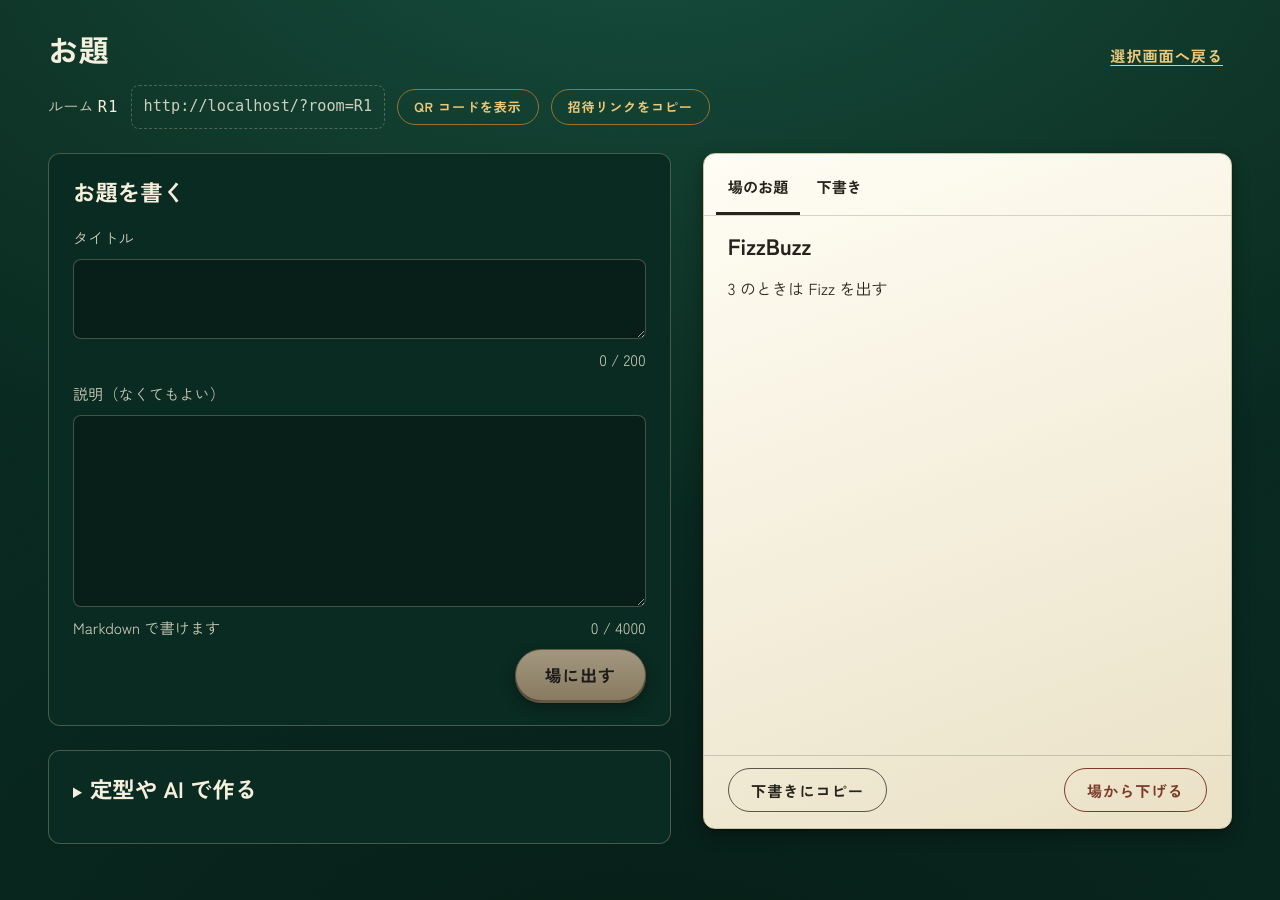
Test case: 書く › Given 書きかけがあって場のお題のタブを見ている / When 下書きにコピー / Then 書きかけは置き換わり、札は必ず下書きのタブへ切り替わる
Step 1. Type "書きかけ" into the text box labelled "タイトル" → (359, 299), box [73,259,646,339]
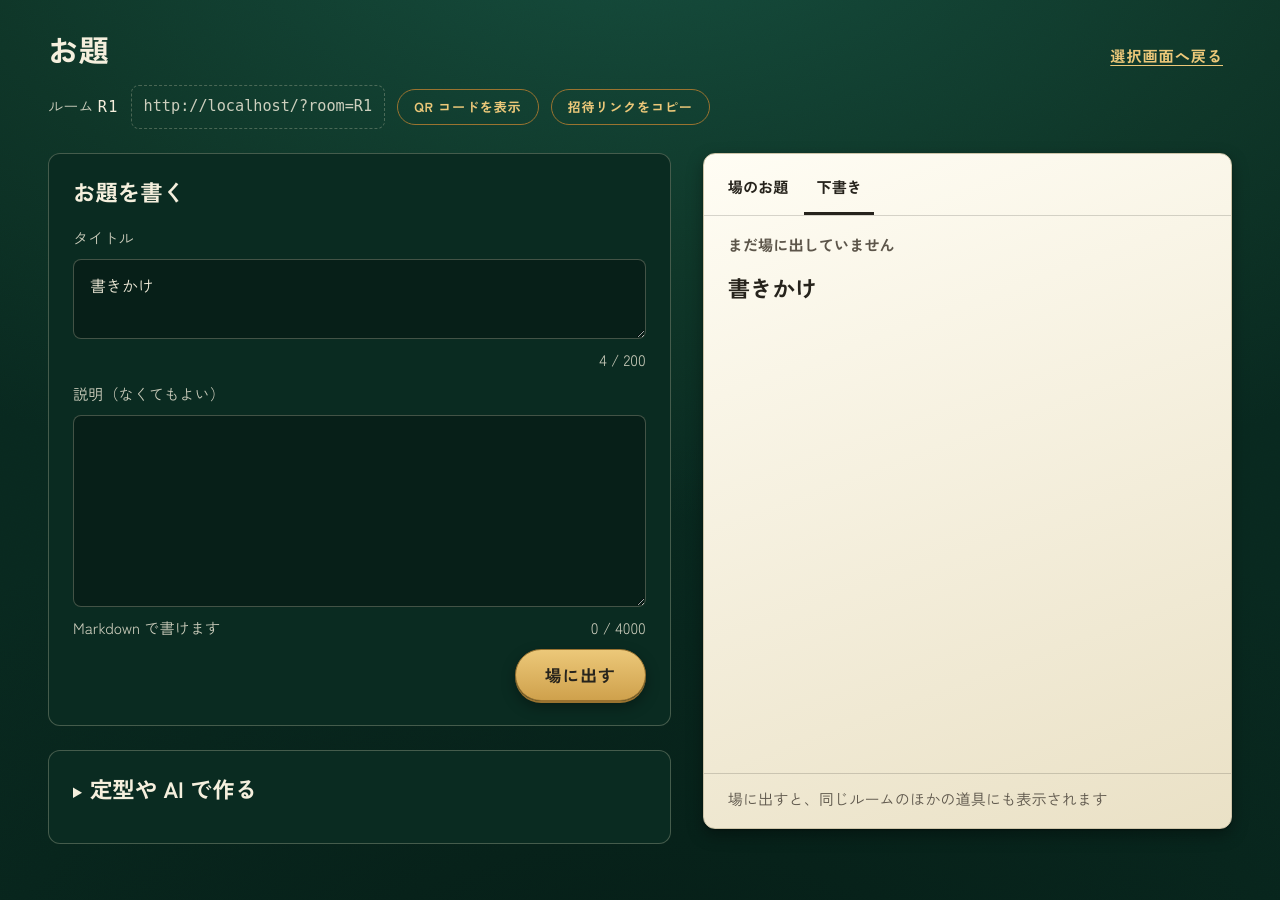
Step 2. Click the tab "場のお題" → (758, 188), box [716,162,800,215]
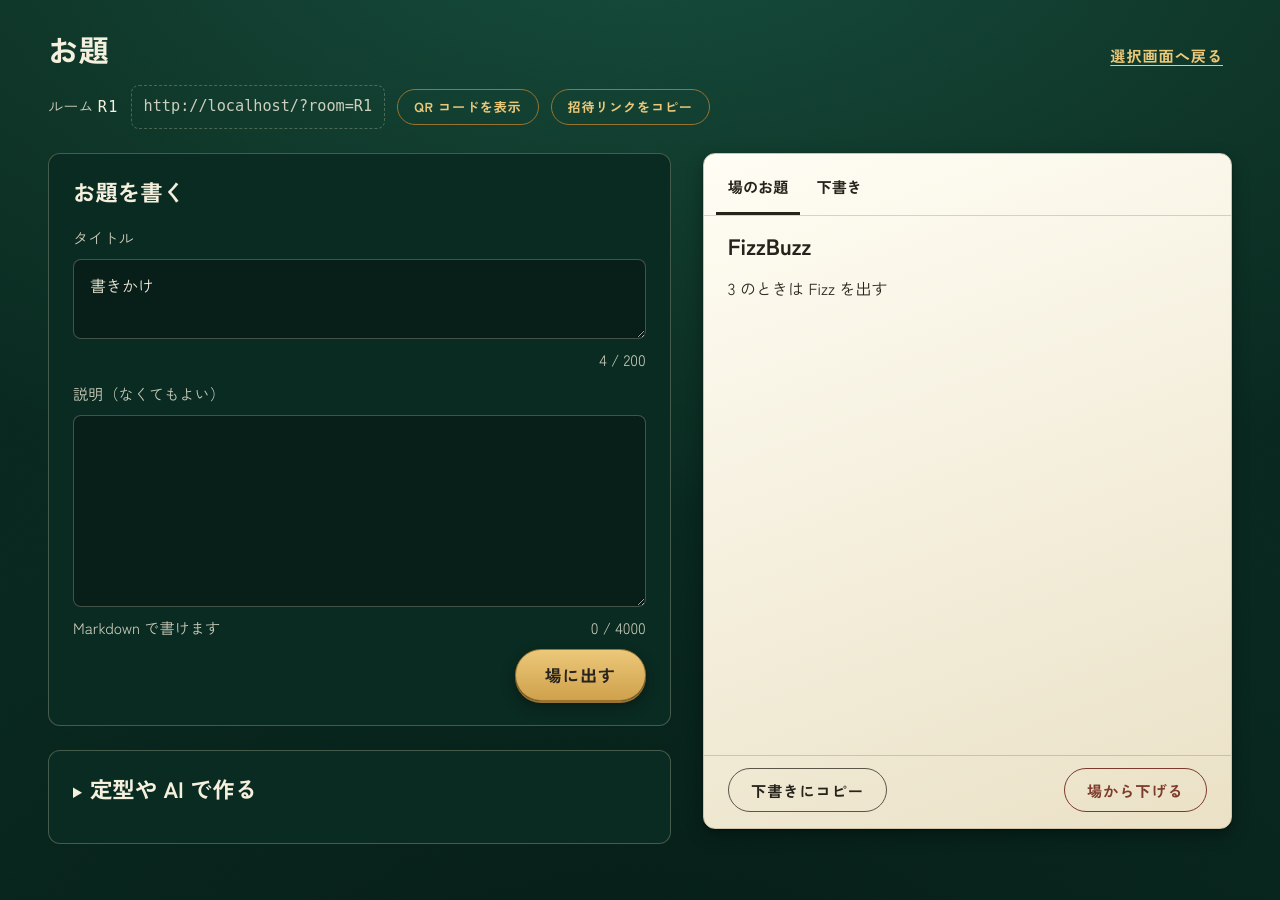
Step 3. Click the button "下書きにコピー" → (807, 790), box [728,768,887,812]
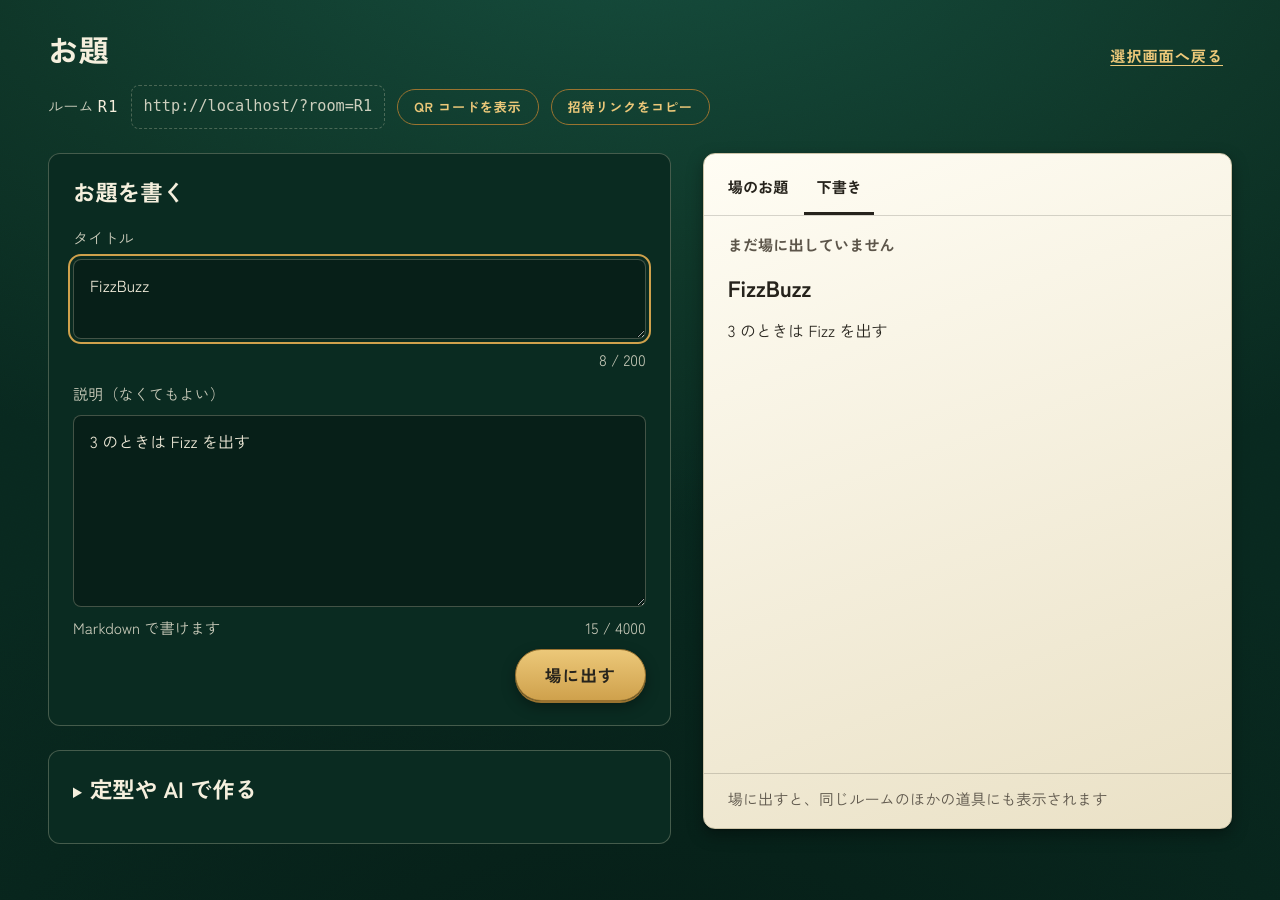
Expected: the text box labelled "タイトル" holds "FizzBuzz", [73,259,646,339]
